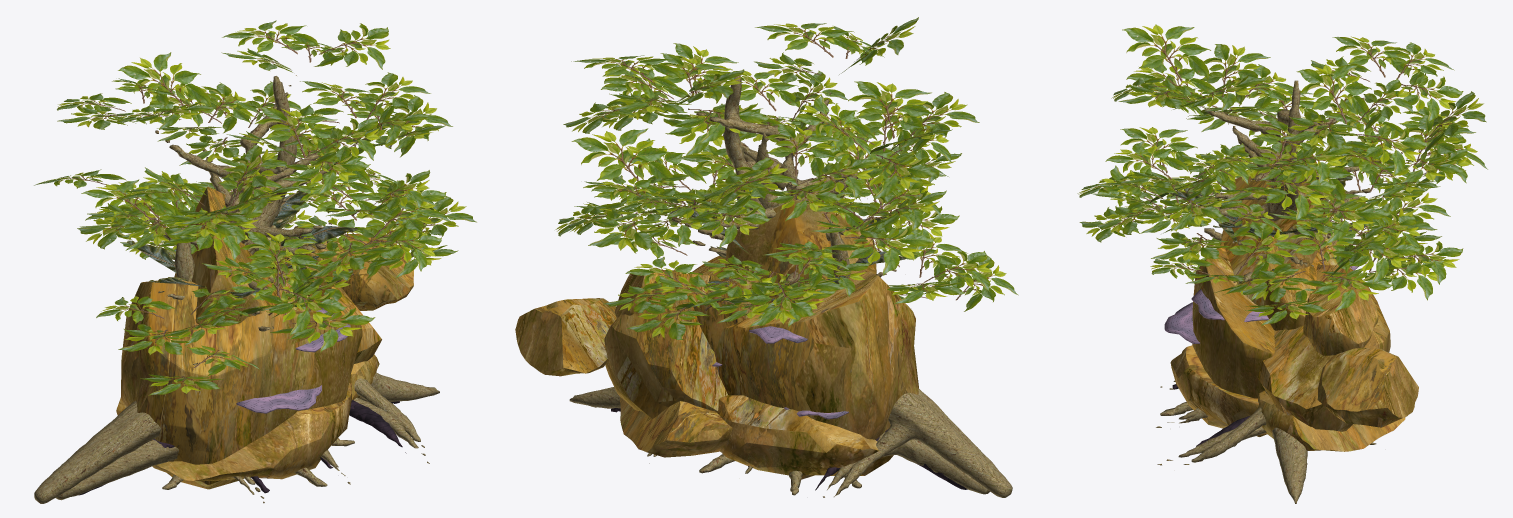
File: habitat-kit.glb
3 renders of one model, left to right at view 1: azimuth 30°, elevation 25°; view 2: azimuth 150°, elevation 25°; view 3: azimuth 270°, elevation 25°, orthographic. The views are drawn at different scales.
Visible parts, largest first — view 1: GEO-bank_tree_a-MAT-Habitat_Crown_Leaf_Cutout, GEO-bank_tree_c-MAT-Habitat_Crown_Leaf_Cutout, GEO-frost_outcrop-MAT-Habitat_Fractured_Stone, GEO-weathered_scree-MAT-Habitat_Fractured_Stone, GEO-bank_tree_b-MAT-Habitat_Crown_Leaf_Cutout, GEO-root_buttress-MAT-Habitat_Root_Wet, GEO-fracture_rib-MAT-Habitat_Fractured_Stone, GEO-bank_tree_c-MAT-Habitat_Bark_Dry, GEO-fallen_root-MAT-Habitat_Root_Wet, GEO-bank_tree_a-MAT-Habitat_Bark_Dry, GEO-veil_crown-MAT-Habitat_Leaf_Cutout, GEO-spore_thicket-MAT-Habitat_Spore_Gill (+2 smaller); view 2: GEO-frost_outcrop-MAT-Habitat_Fractured_Stone, GEO-bank_tree_a-MAT-Habitat_Crown_Leaf_Cutout, GEO-bank_tree_c-MAT-Habitat_Crown_Leaf_Cutout, GEO-weathered_scree-MAT-Habitat_Fractured_Stone, GEO-bank_tree_b-MAT-Habitat_Crown_Leaf_Cutout, GEO-fracture_rib-MAT-Habitat_Fractured_Stone, GEO-root_buttress-MAT-Habitat_Root_Wet, GEO-bank_tree_c-MAT-Habitat_Bark_Dry, GEO-bank_tree_a-MAT-Habitat_Bark_Dry, GEO-fallen_root-MAT-Habitat_Root_Wet, GEO-spore_thicket-MAT-Habitat_Spore_Gill, GEO-veil_crown-MAT-Habitat_Leaf_Cutout (+1 smaller); view 3: GEO-bank_tree_c-MAT-Habitat_Crown_Leaf_Cutout, GEO-bank_tree_a-MAT-Habitat_Crown_Leaf_Cutout, GEO-frost_outcrop-MAT-Habitat_Fractured_Stone, GEO-bank_tree_b-MAT-Habitat_Crown_Leaf_Cutout, GEO-fracture_rib-MAT-Habitat_Fractured_Stone, GEO-weathered_scree-MAT-Habitat_Fractured_Stone, GEO-bank_tree_c-MAT-Habitat_Bark_Dry, GEO-root_buttress-MAT-Habitat_Root_Wet, GEO-spore_thicket-MAT-Habitat_Spore_Gill, GEO-bank_tree_a-MAT-Habitat_Bark_Dry, GEO-veil_crown-MAT-Habitat_Leaf_Cutout, GEO-fallen_root-MAT-Habitat_Root_Wet.
Boxes of the visible parts, x1,y1,x2,y2 form: GEO-bank_tree_a-MAT-Habitat_Crown_Leaf_Cutout: [80, 52, 476, 354]; GEO-bank_tree_c-MAT-Habitat_Crown_Leaf_Cutout: [57, 20, 452, 325]; GEO-frost_outcrop-MAT-Habitat_Fractured_Stone: [121, 233, 413, 489]; GEO-weathered_scree-MAT-Habitat_Fractured_Stone: [116, 354, 379, 480]; GEO-bank_tree_b-MAT-Habitat_Crown_Leaf_Cutout: [34, 136, 430, 395]; GEO-root_buttress-MAT-Habitat_Root_Wet: [34, 372, 439, 503]; GEO-fracture_rib-MAT-Habitat_Fractured_Stone: [174, 186, 349, 326]; GEO-bank_tree_c-MAT-Habitat_Bark_Dry: [146, 75, 360, 486]; GEO-fallen_root-MAT-Habitat_Root_Wet: [55, 397, 429, 500]; GEO-bank_tree_a-MAT-Habitat_Bark_Dry: [162, 128, 372, 489]; GEO-veil_crown-MAT-Habitat_Leaf_Cutout: [127, 187, 357, 298]; GEO-spore_thicket-MAT-Habitat_Spore_Gill: [236, 308, 351, 413]; GEO-frost_outcrop-MAT-Habitat_Fractured_Stone: [515, 269, 918, 475]; GEO-bank_tree_a-MAT-Habitat_Crown_Leaf_Cutout: [568, 53, 992, 339]; GEO-bank_tree_c-MAT-Habitat_Crown_Leaf_Cutout: [555, 17, 959, 327]; GEO-weathered_scree-MAT-Habitat_Fractured_Stone: [620, 395, 893, 475]; GEO-bank_tree_b-MAT-Habitat_Crown_Leaf_Cutout: [603, 148, 1018, 327]; GEO-fracture_rib-MAT-Habitat_Fractured_Stone: [614, 199, 876, 479]; GEO-root_buttress-MAT-Habitat_Root_Wet: [569, 387, 1012, 497]; GEO-bank_tree_c-MAT-Habitat_Bark_Dry: [638, 75, 864, 477]; GEO-bank_tree_a-MAT-Habitat_Bark_Dry: [664, 118, 867, 495]; GEO-fallen_root-MAT-Habitat_Root_Wet: [594, 407, 990, 497]; GEO-spore_thicket-MAT-Habitat_Spore_Gill: [712, 326, 848, 419]; GEO-veil_crown-MAT-Habitat_Leaf_Cutout: [674, 178, 906, 307]; GEO-bank_tree_c-MAT-Habitat_Crown_Leaf_Cutout: [1091, 24, 1475, 312]; GEO-bank_tree_a-MAT-Habitat_Crown_Leaf_Cutout: [1077, 44, 1486, 300]; GEO-frost_outcrop-MAT-Habitat_Fractured_Stone: [1192, 243, 1418, 436]; GEO-bank_tree_b-MAT-Habitat_Crown_Leaf_Cutout: [1079, 134, 1487, 325]; GEO-fracture_rib-MAT-Habitat_Fractured_Stone: [1220, 154, 1378, 355]; GEO-weathered_scree-MAT-Habitat_Fractured_Stone: [1170, 345, 1405, 451]; GEO-bank_tree_c-MAT-Habitat_Bark_Dry: [1160, 80, 1374, 415]; GEO-root_buttress-MAT-Habitat_Root_Wet: [1160, 380, 1376, 503]; GEO-spore_thicket-MAT-Habitat_Spore_Gill: [1164, 259, 1366, 343]; GEO-bank_tree_a-MAT-Habitat_Bark_Dry: [1160, 123, 1402, 446]; GEO-veil_crown-MAT-Habitat_Leaf_Cutout: [1169, 175, 1365, 271]; GEO-fallen_root-MAT-Habitat_Root_Wet: [1156, 388, 1273, 465].
Bounding box in the file's own units: 12.79 × 11.48 × 11.81.
7 materials, 7 textured.
